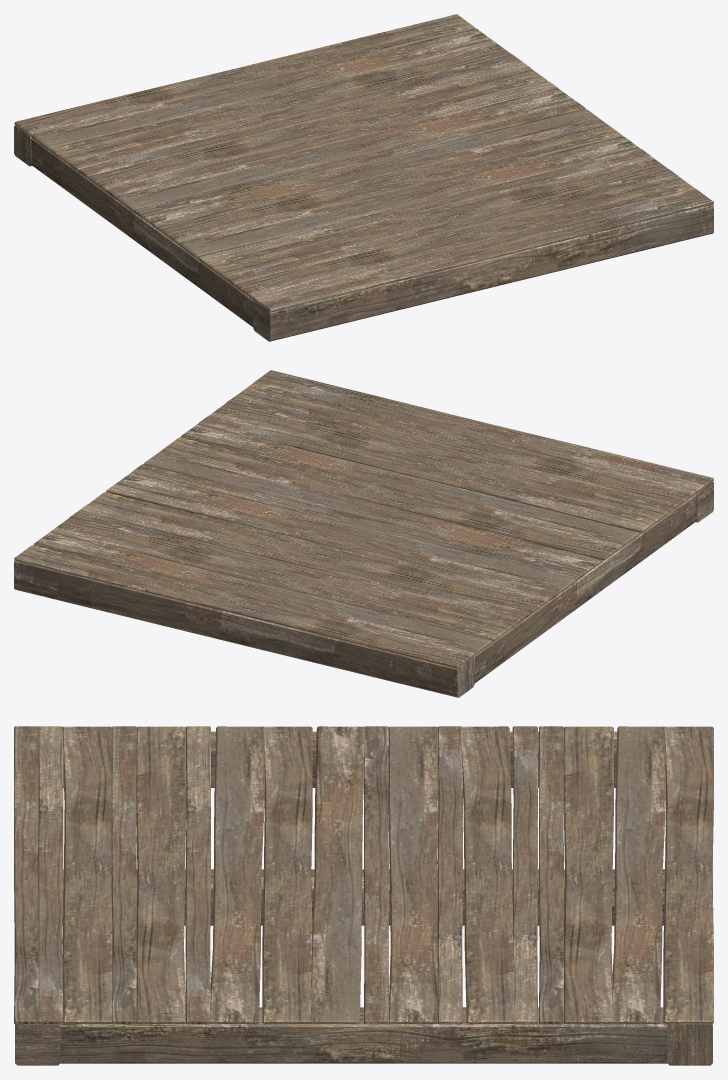
File: SM_WoodFloor_A_01.fbx
The picture shows the model from 3 angles, top to bottom: view 1: azimuth 30°, elevation 25°; view 2: azimuth 150°, elevation 25°; view 3: azimuth 270°, elevation 25°; orthographic projection. The views are drawn at different scales.
Parts seen in each view (by area): view 1: SM_WoodFloor_A_01_LOD0; view 2: SM_WoodFloor_A_01_LOD0; view 3: SM_WoodFloor_A_01_LOD0.
Boxes of the visible parts, bbox=[...] form: SM_WoodFloor_A_01_LOD0: bbox=[14, 14, 713, 341]; SM_WoodFloor_A_01_LOD0: bbox=[14, 370, 713, 697]; SM_WoodFloor_A_01_LOD0: bbox=[14, 726, 713, 1065].
Size of the model in its own units: 400 by 401 by 28.56.
2 materials, 2 textured.
